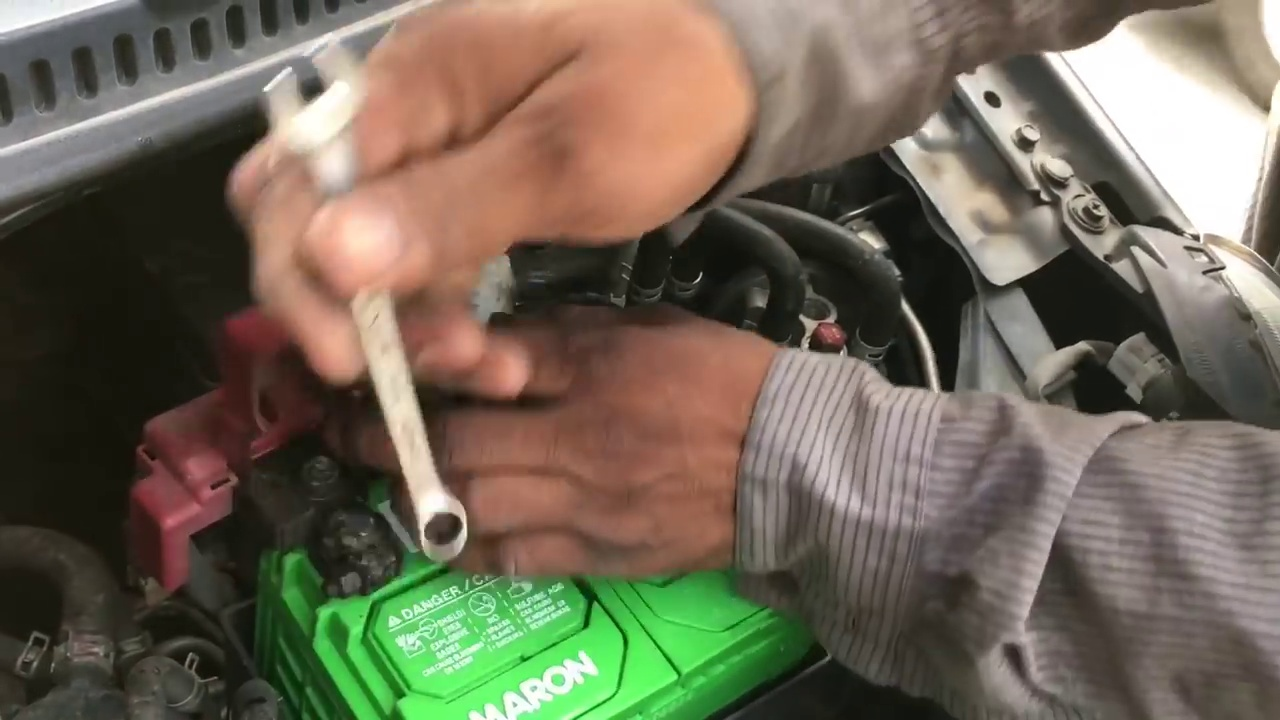battery: (261, 415, 798, 720)
pos_connected: (192, 365, 382, 611)
pos_touched: (221, 294, 504, 605)
